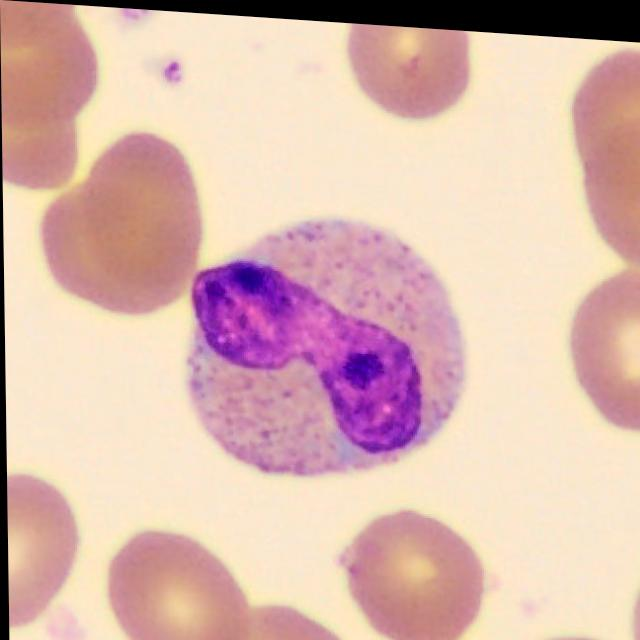Bastonete: (188, 215, 466, 474)
